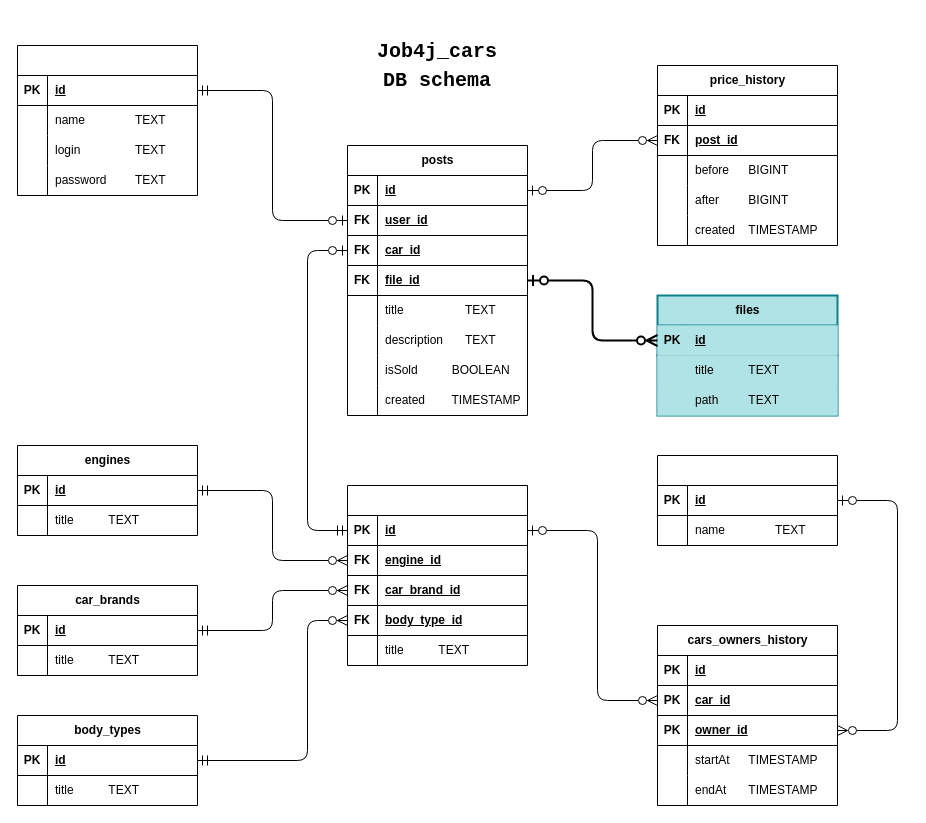
This 926x823 diagram has some shape labels left out. Here are the shapes that lost their labels. From the top down, the box of each, then its label:
(16, 44, 198, 196): users
(656, 454, 838, 546): owners
(346, 484, 528, 666): cars
